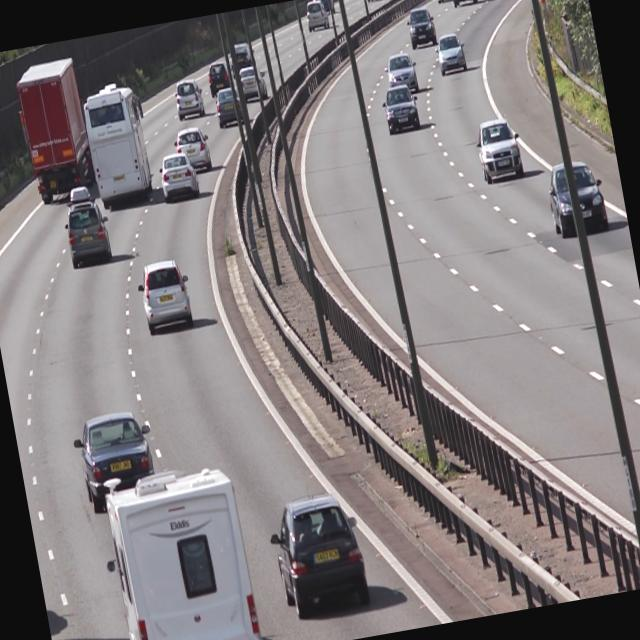Vehicle: (101, 463, 269, 640), (266, 488, 377, 624), (14, 55, 100, 202), (72, 404, 162, 512), (80, 82, 158, 206), (133, 255, 200, 338), (57, 177, 117, 269), (546, 157, 612, 239), (472, 116, 527, 188), (156, 150, 202, 206), (172, 122, 215, 174), (381, 84, 421, 134), (404, 1, 438, 54), (170, 73, 207, 121), (434, 32, 470, 77), (225, 37, 262, 80), (385, 51, 422, 94), (214, 88, 248, 129), (236, 62, 270, 102), (203, 60, 235, 98), (302, 0, 332, 35)
